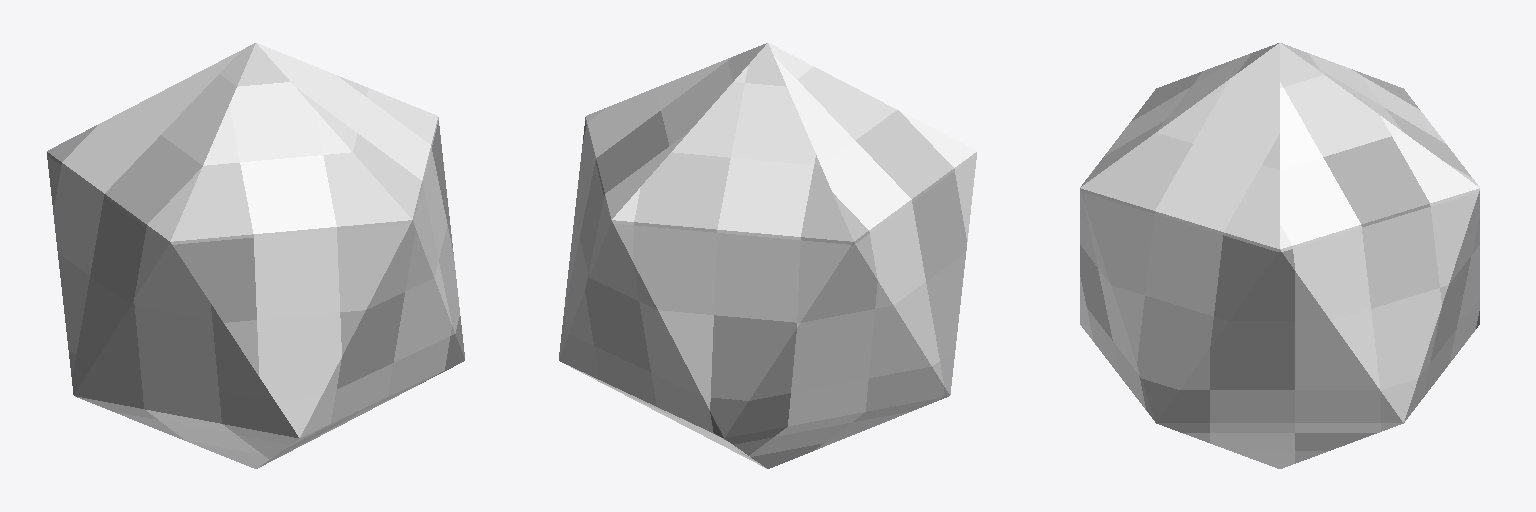
3 renders of one model, left to right at view 1: azimuth 30°, elevation 25°; view 2: azimuth 150°, elevation 25°; view 3: azimuth 270°, elevation 25°, orthographic.
Parts seen in each view (by area): view 1: Icosphere_Icosphere.001; view 2: Icosphere_Icosphere.001; view 3: Icosphere_Icosphere.001.
Part boxes in pixels (x1,y1,x2,y2): Icosphere_Icosphere.001: (47,43,464,468); Icosphere_Icosphere.001: (559,43,976,468); Icosphere_Icosphere.001: (1080,43,1479,468).
Bounding box in the file's own units: 0.3578 × 0.4 × 0.3403.
1 materials, 1 textured.